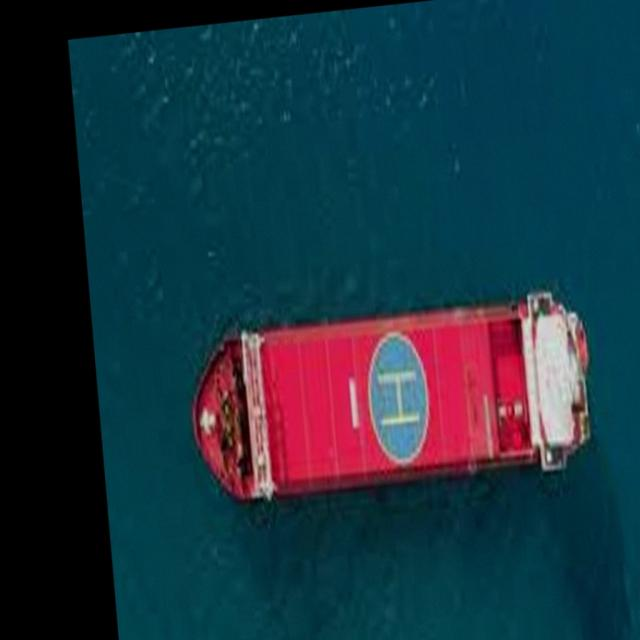helipad: (362, 327, 434, 468)
